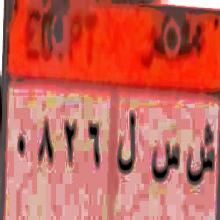0: (14, 131, 30, 169)
2: (64, 116, 78, 170)
6: (86, 122, 103, 174)
8: (36, 115, 55, 173)
laam: (115, 106, 138, 181)
seen: (150, 132, 181, 192)
sheen: (184, 114, 216, 194)
